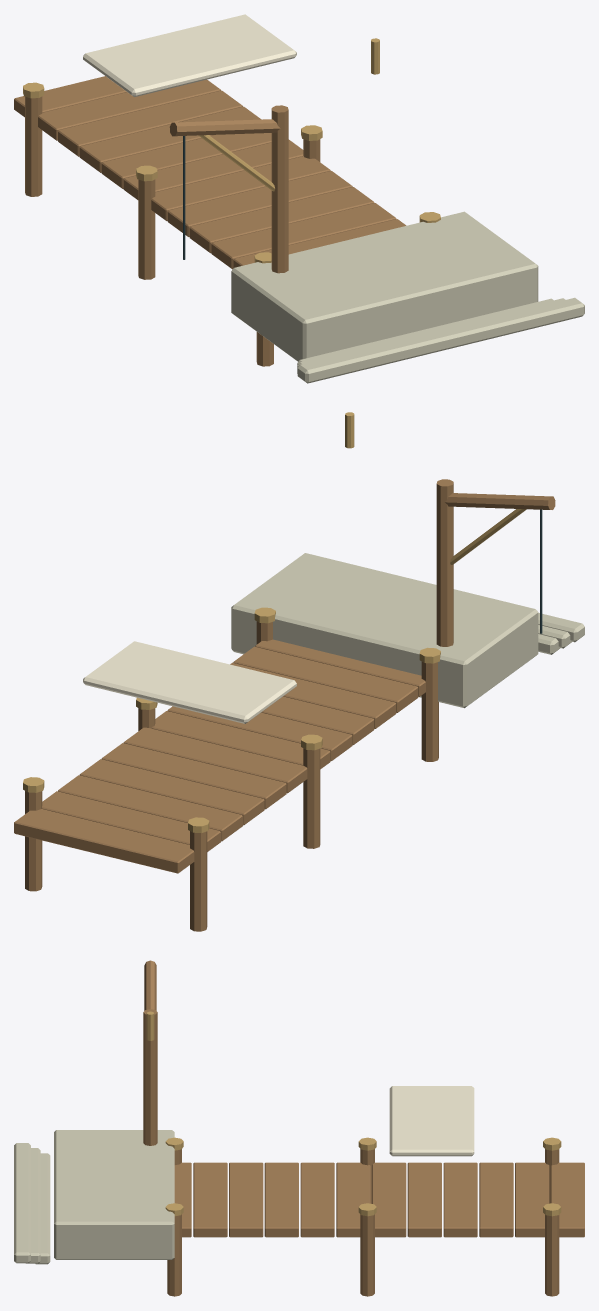
File: level_20.glb
3 renders of one model, top to bottom at view 1: azimuth 30°, elevation 25°; view 2: azimuth 150°, elevation 25°; view 3: azimuth 270°, elevation 25°, orthographic. The views are drawn at different scales.
Parts seen in each view (by area): view 1: dock — level 20; view 2: dock — level 20; view 3: dock — level 20.
Boxes of the visible parts, <box> form: dock — level 20: <box>14,14,584,383</box>; dock — level 20: <box>14,412,584,931</box>; dock — level 20: <box>14,960,584,1296</box>.
Bounding box in the file's own units: 5.14 × 4.62 × 9.45.
